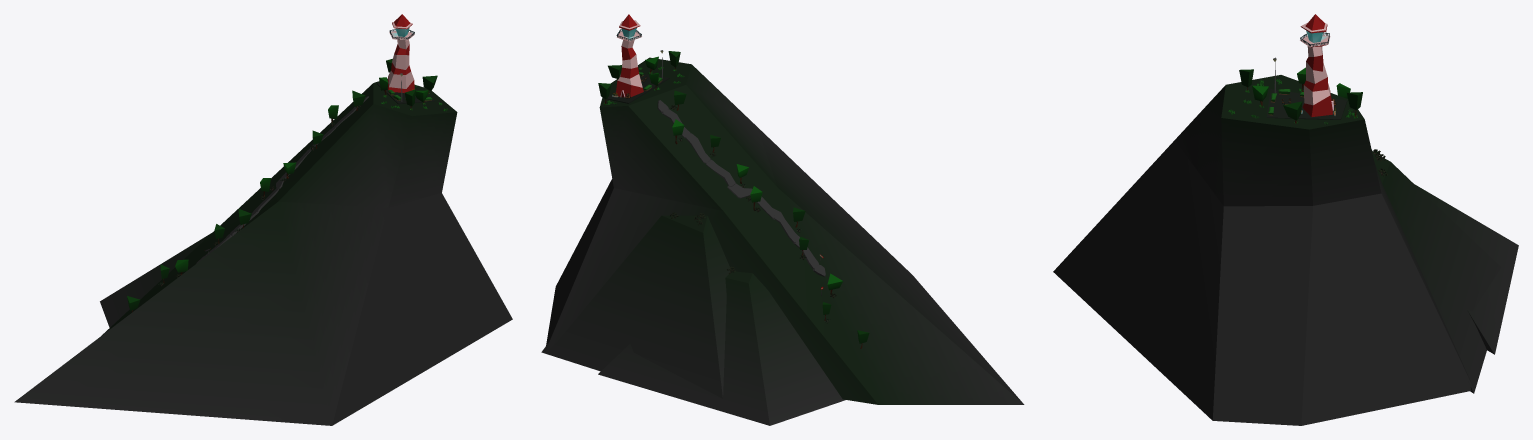
File: c_lighthouse.fbx
The picture shows the model from 3 angles, left to right: view 1: azimuth 30°, elevation 25°; view 2: azimuth 150°, elevation 25°; view 3: azimuth 270°, elevation 25°; orthographic projection. The views are drawn at different scales.
Parts seen in each view (by area): view 1: c_lighthouse; view 2: c_lighthouse; view 3: c_lighthouse.
Boxes of the visible parts, x1=… form: c_lighthouse: x1=14, y1=14, x2=512, y2=425; c_lighthouse: x1=541, y1=14, x2=1024, y2=425; c_lighthouse: x1=1053, y1=14, x2=1518, y2=425.
Size of the model in its own units: 161 by 96.31 by 111.
